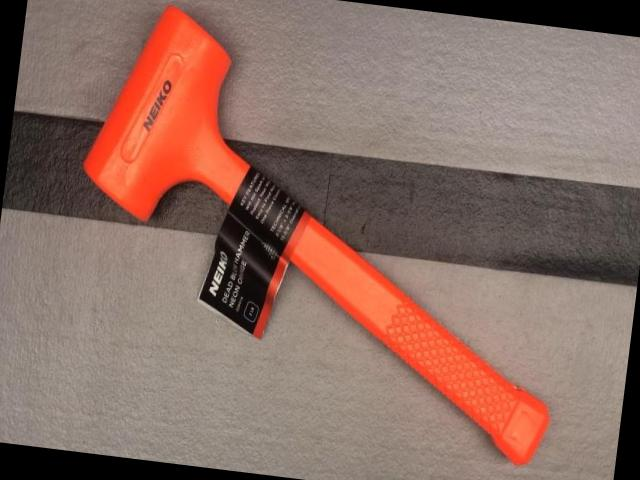hammer: (52, 0, 596, 467)
